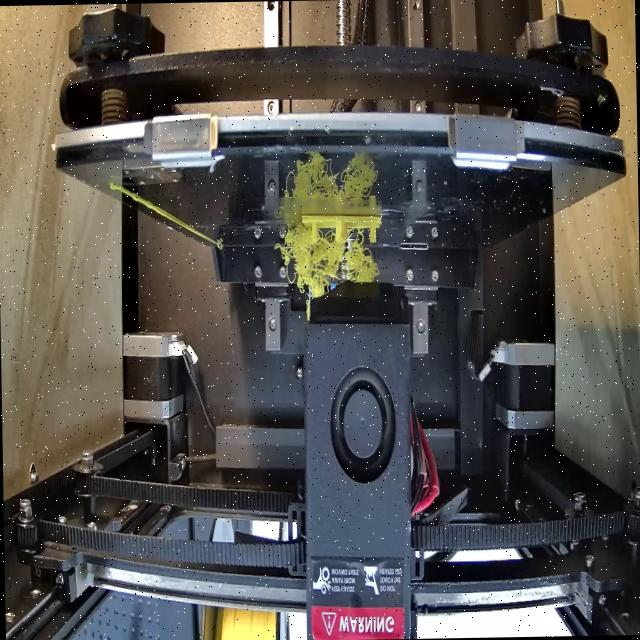spaghetti: (276, 223, 371, 308)
